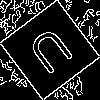U: (25, 25, 82, 84)
